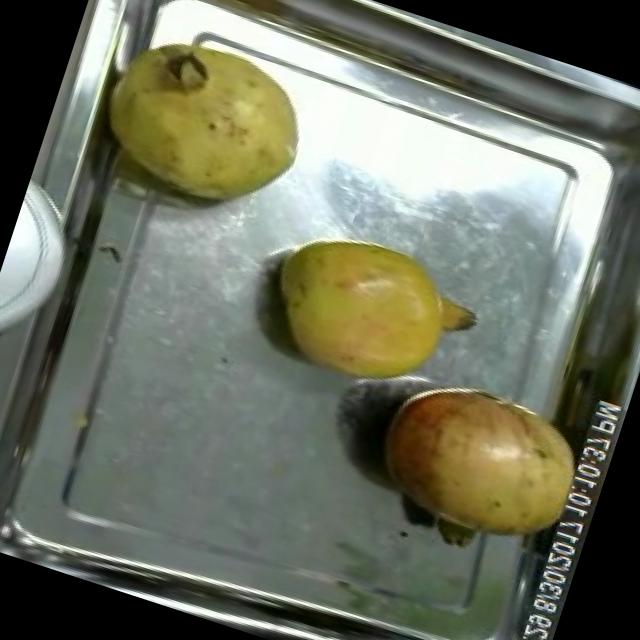fruit: (76, 4, 336, 238), (348, 358, 608, 580), (244, 208, 485, 416)
